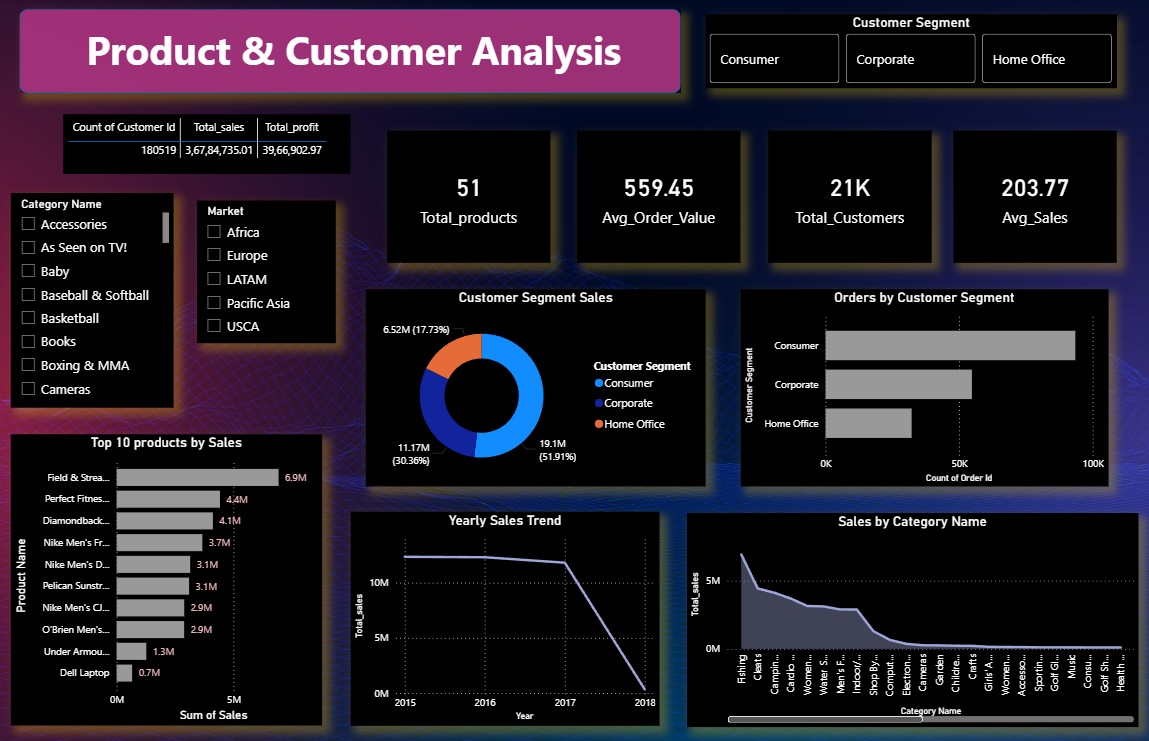

The page's visual inventory and layout, read from the dashboard file:
{"tool":"powerbi","page":{"name":"product and customer analysis","canvas":[1420,920],"ordinal":1},"visuals":[{"type":"shape","box":[27.7,13.9,815.5,103.3],"z":0},{"type":"shape","box":[468.6,143.4,938.8,194.2],"z":0,"group":"g1"},{"type":"stackedAreaChart","title":"Sales by Category Name","fields":{"Category":["cleaned_supply_chain_data.Category Name"],"Y":["cleaned_supply_chain_data.Total_sales"]},"box":[850.9,635.1,556.5,263.6],"z":1000},{"type":"lineChart","title":"Yearly Sales Trend","fields":{"Category":["cleaned_supply_chain_data.order date (DateOrders).Variation.Date Hierarchy.Year","cleaned_supply_chain_data.order date (DateOrders).Variation.Date Hierarchy.Quarter","cleaned_supply_chain_data.order date (DateOrders).Variation.Date Hierarchy.Month","cleaned_supply_chain_data.order date (DateOrders).Variation.Date Hierarchy.Day"],"Y":["cleaned_supply_chain_data.Total_sales"]},"box":[436.3,633.6,380.8,263.6],"z":2000},{"type":"card","fields":{"Values":["cleaned_supply_chain_data.Avg_Order_Value"]},"box":[715.3,163.4,201.9,163.4],"z":3000,"group":"g1"},{"type":"clusteredBarChart","title":"Top 10 products by Sales","fields":{"Category":["cleaned_supply_chain_data.Product Name"],"Y":["Sum(cleaned_supply_chain_data.Sales)"]},"box":[17,538,383.8,359.2],"z":3000},{"type":"card","fields":{"Values":["cleaned_supply_chain_data.Total_Customers"]},"box":[951.1,163.4,201.9,163.4],"z":4000,"group":"g1"},{"type":"donutChart","title":"Customer Segment Sales","fields":{"Category":["cleaned_supply_chain_data.Customer Segment"],"Y":["cleaned_supply_chain_data.Total_sales"]},"box":[454.8,359.2,419.3,243.6],"z":4000},{"type":"card","fields":{"Values":["cleaned_supply_chain_data.Total_products"]},"box":[480.9,163.4,201.9,163.4],"z":5000,"group":"g1"},{"type":"clusteredBarChart","title":"Orders by Customer Segment","fields":{"Category":["cleaned_supply_chain_data.Customer Segment"],"Y":["CountNonNull(cleaned_supply_chain_data.Order Id)"]},"box":[917.2,359.2,453.2,243.6],"z":5000},{"type":"tableEx","fields":{"Values":["CountNonNull(cleaned_supply_chain_data.Customer Id)","cleaned_supply_chain_data.Total_sales","cleaned_supply_chain_data.Total_profit"]},"box":[81.7,143.4,354.6,74],"z":6000},{"type":"card","fields":{"Values":["cleaned_supply_chain_data.Avg_Sales"]},"box":[1179.3,163.4,201.9,163.4],"z":6000,"group":"g1"},{"type":"slicer","fields":{"Values":["cleaned_supply_chain_data.Category Name"]},"box":[17,240.5,200.4,265.1],"z":7000},{"type":"advancedSlicerVisual","fields":{"Values":["cleaned_supply_chain_data.Customer Segment"]},"box":[874.1,20,507.2,91],"z":8000},{"type":"slicer","fields":{"Values":["cleaned_supply_chain_data.Market"]},"box":[246.7,249.7,171.1,175.7],"z":9000},{"type":"textbox","box":[52.4,26.2,778.5,77.1],"z":10000},{"type":"group","id":"g1","title":"Group 1","box":[468.6,143.4,938.8,194.2],"z":11000}]}

Visuals, with their boxes in screenshot pixels (x1, y1, x2, y2), scaled from the page's 1420x920 canvas onto the 1149x741 screenshot:
shape: pyautogui.locateOnScreen(22, 11, 682, 94)
shape: pyautogui.locateOnScreen(379, 115, 1139, 272)
"Sales by Category Name" stackedAreaChart: pyautogui.locateOnScreen(689, 512, 1139, 724)
"Yearly Sales Trend" lineChart: pyautogui.locateOnScreen(353, 510, 661, 723)
card - cleaned_supply_chain_data.Avg_Order_Value: pyautogui.locateOnScreen(579, 132, 742, 263)
"Top 10 products by Sales" clusteredBarChart: pyautogui.locateOnScreen(14, 433, 324, 723)
card - cleaned_supply_chain_data.Total_Customers: pyautogui.locateOnScreen(770, 132, 933, 263)
"Customer Segment Sales" donutChart: pyautogui.locateOnScreen(368, 289, 707, 486)
card - cleaned_supply_chain_data.Total_products: pyautogui.locateOnScreen(389, 132, 552, 263)
"Orders by Customer Segment" clusteredBarChart: pyautogui.locateOnScreen(742, 289, 1109, 486)
tableEx - CountNonNull(cleaned_supply_chain_data.Customer Id) x cleaned_supply_chain_data.Total_sales: pyautogui.locateOnScreen(66, 115, 353, 175)
card - cleaned_supply_chain_data.Avg_Sales: pyautogui.locateOnScreen(954, 132, 1118, 263)
slicer - cleaned_supply_chain_data.Category Name: pyautogui.locateOnScreen(14, 194, 176, 407)
advancedSlicerVisual - cleaned_supply_chain_data.Customer Segment: pyautogui.locateOnScreen(707, 16, 1118, 89)
slicer - cleaned_supply_chain_data.Market: pyautogui.locateOnScreen(200, 201, 338, 343)
textbox: pyautogui.locateOnScreen(42, 21, 672, 83)
"Group 1" group: pyautogui.locateOnScreen(379, 115, 1139, 272)
